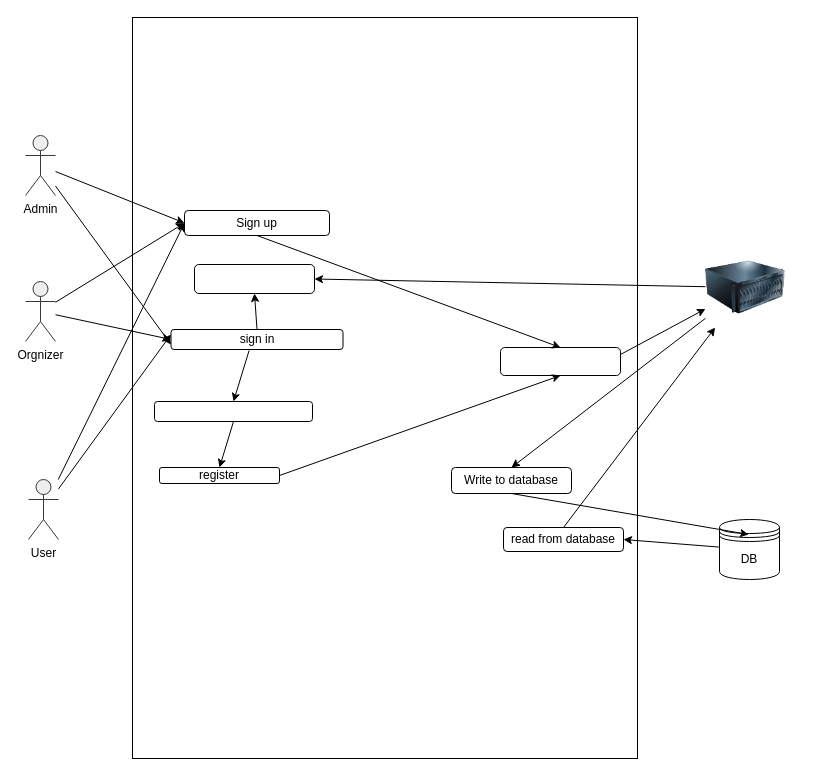
Some shapes in this 822 by 776 pixel diagram are drawn without their labels. The centre of each missing label's shape, as x and y in pixels:
"apply to server" belongs at pixel 560 361.
"get Data in pdf/excel" belongs at pixel 254 279.
"Google Hosted Server" belongs at pixel 745 287.
"view events" belongs at pixel 233 411.
